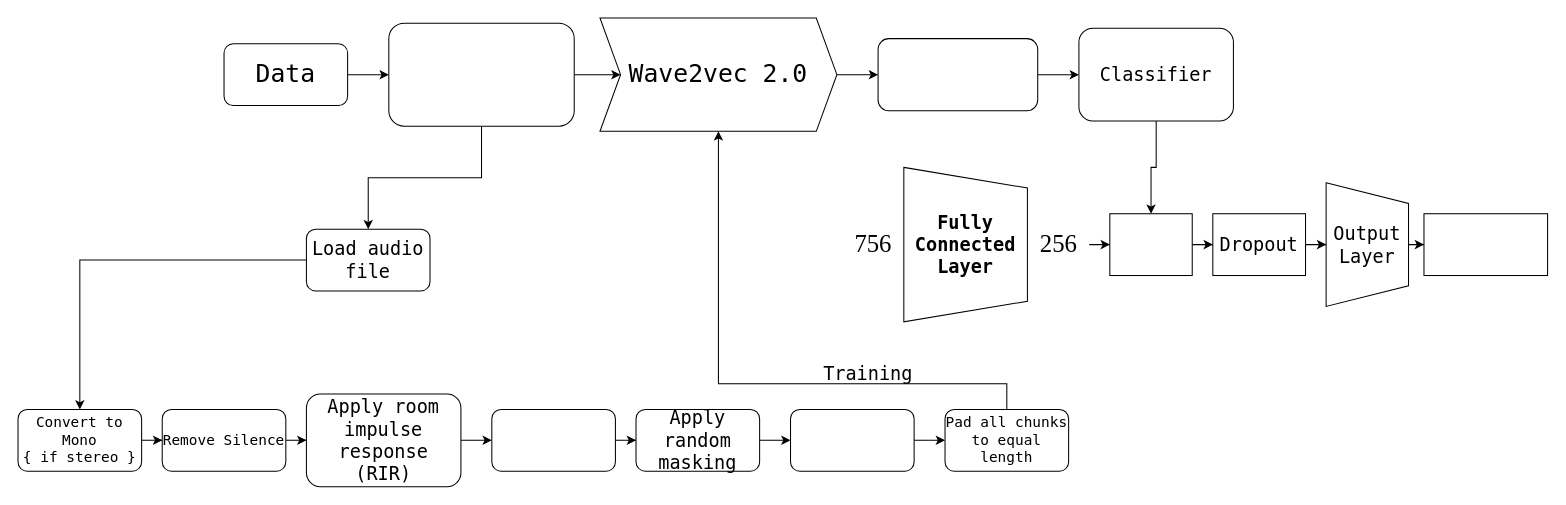
Image size: 1566x505. Some labels were removed from this diagram. Here are the shapes that lost their labels. From the top down, the centre of each, then its label:
point (481, 74): Data Preprocessing
point (957, 74): Embedding's
point (1150, 244): Relu
point (1485, 244): Real/ Fake
point (553, 439): Divide into chunks
point (851, 439): Label chunks
